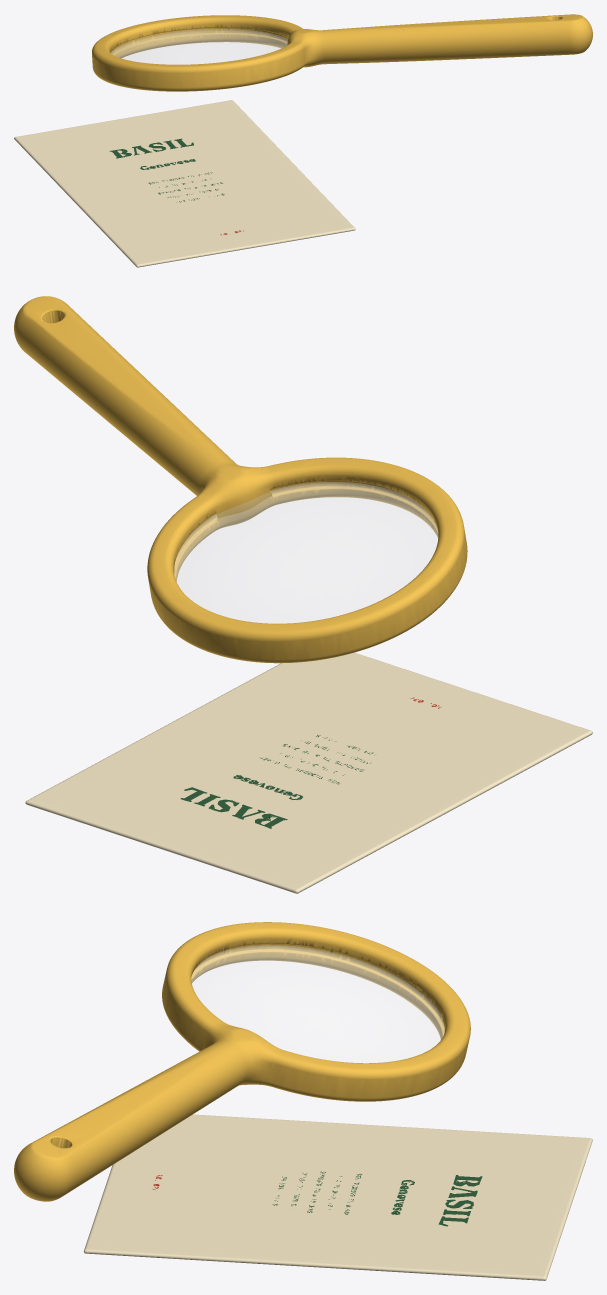
The model's file is pinch-to-zoom.glb.
The picture shows the model from 3 angles, top to bottom: view 1: azimuth 30°, elevation 25°; view 2: azimuth 150°, elevation 25°; view 3: azimuth 270°, elevation 25°; orthographic projection. The views are drawn at different scales.
Parts seen in each view (by area): view 1: pz-packet, pz-frame, pz-lens; view 2: pz-packet, pz-frame, pz-lens; view 3: pz-packet, pz-frame, pz-lens.
Part boxes in pixels (x1=…): pz-packet: x1=14, y1=100, x2=355, y2=267; pz-frame: x1=92, y1=14, x2=592, y2=235; pz-lens: x1=111, y1=29, x2=287, y2=64; pz-packet: x1=25, y1=652, x2=592, y2=893; pz-frame: x1=14, y1=296, x2=467, y2=828; pz-lens: x1=174, y1=482, x2=437, y2=623; pz-packet: x1=83, y1=1114, x2=592, y2=1280; pz-frame: x1=14, y1=922, x2=482, y2=1226; pz-lens: x1=191, y1=945, x2=444, y2=1062.
Bounding box in the file's own units: 0.1899 × 0.0751 × 0.1584.
3 materials, 3 textured.
